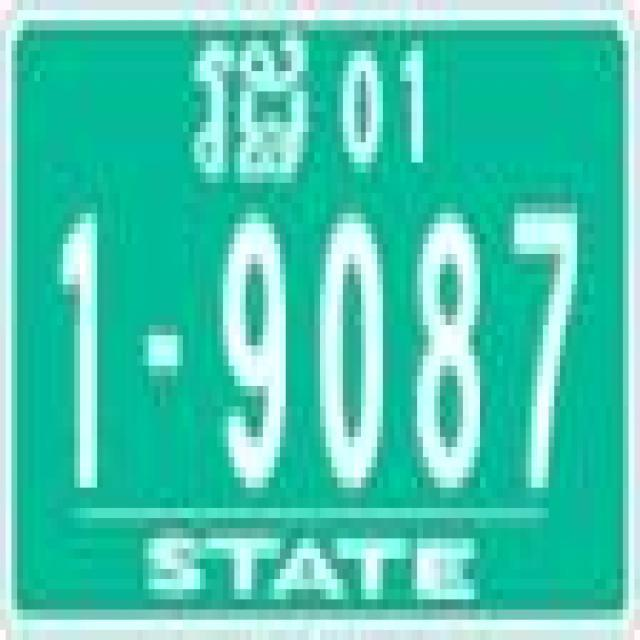State: (189, 31, 319, 206)
